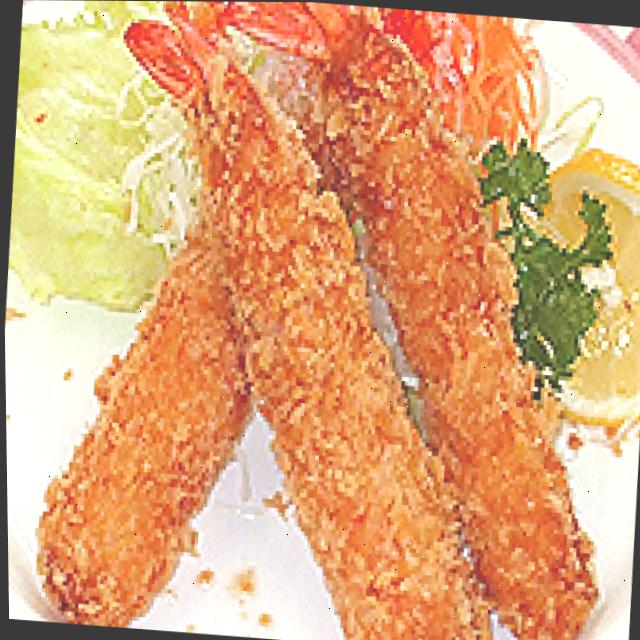炸货点心: (2, 0, 640, 640)
熟制海鲜: (2, 0, 640, 640)
